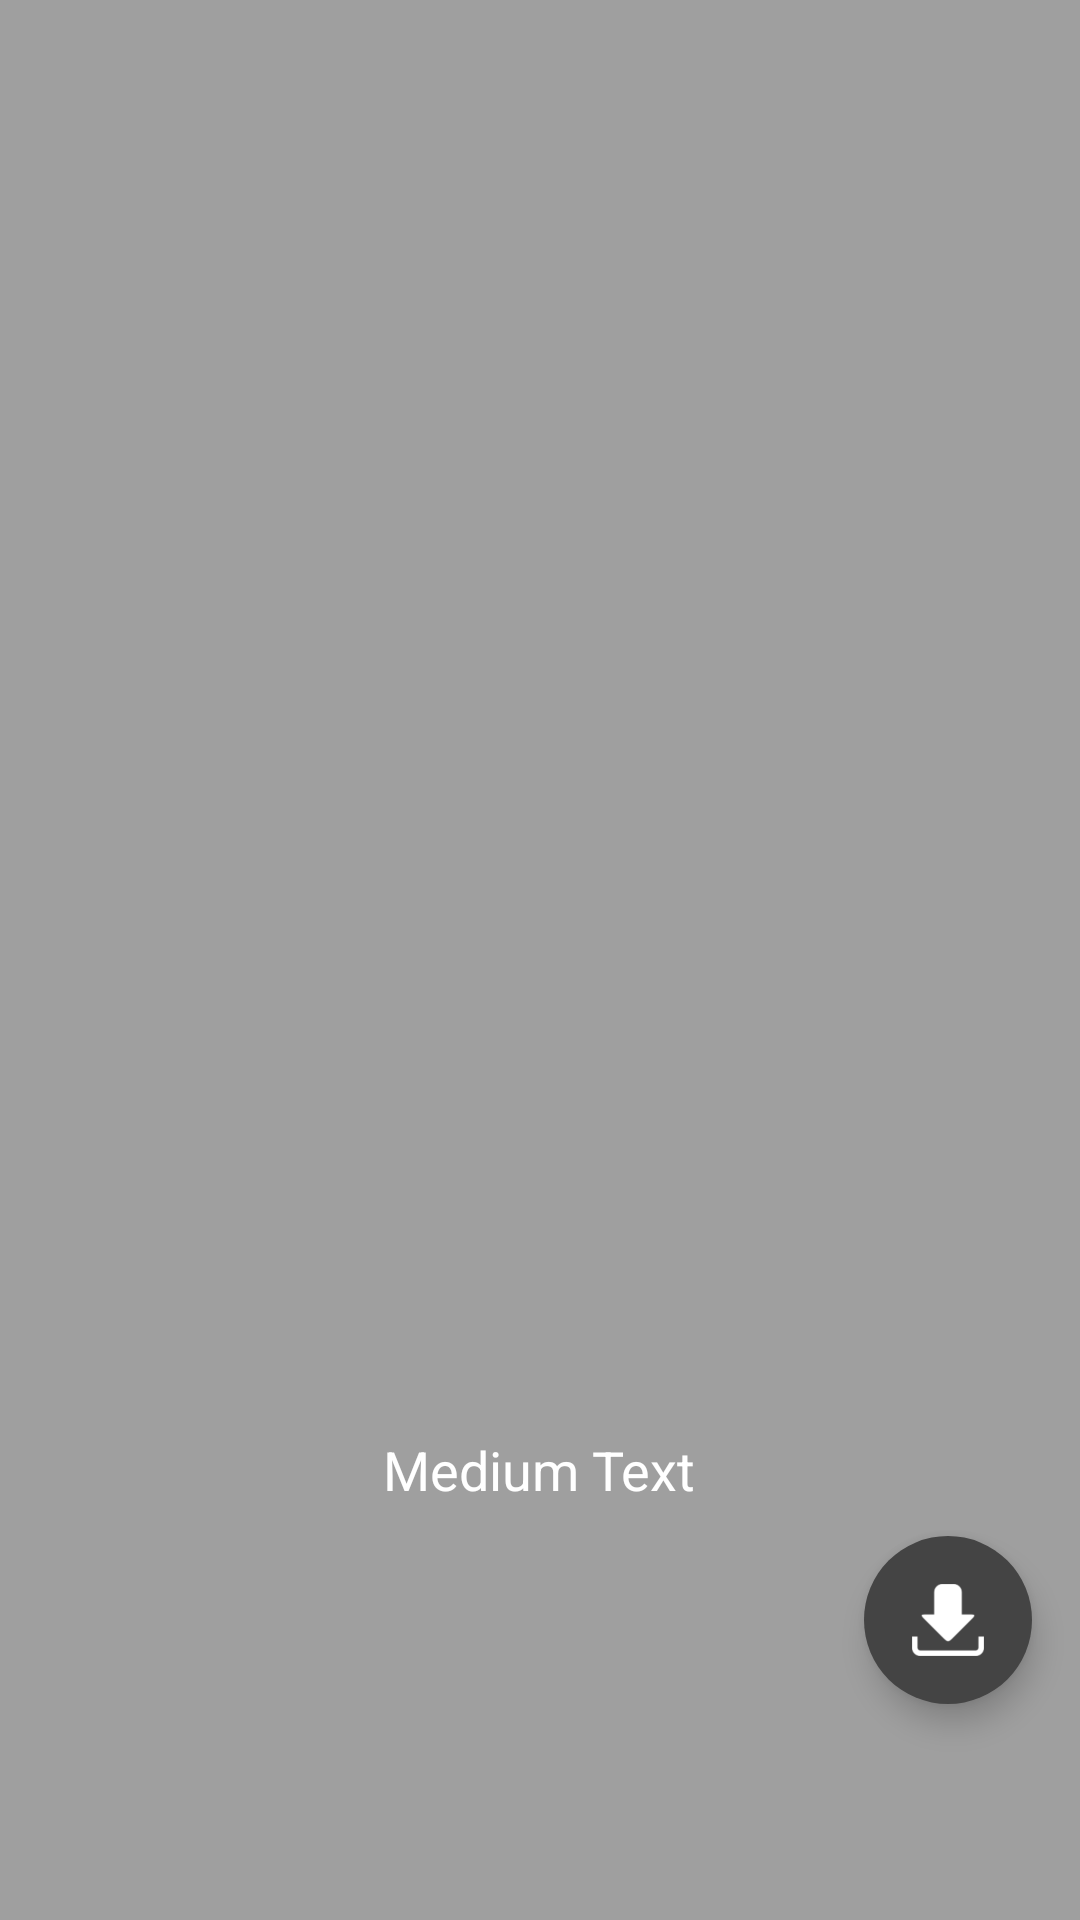

Named icons in this screenshot (1080×1920) and their centers, point (x, y):
fab download: point (948, 1620)
